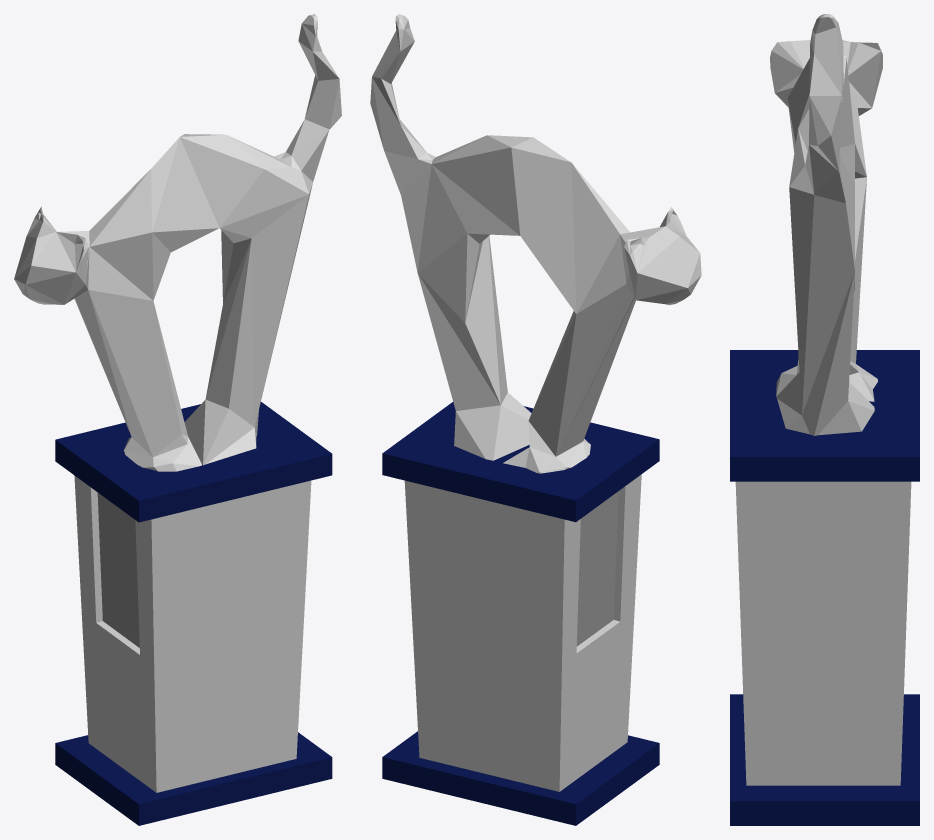
Rendered from silverCatblue.FBX.
The picture shows the model from 3 angles, left to right: view 1: azimuth 30°, elevation 25°; view 2: azimuth 150°, elevation 25°; view 3: azimuth 270°, elevation 25°; orthographic projection. The views are drawn at different scales.
Parts seen in each view (by area): view 1: cat006; view 2: cat006; view 3: cat006.
Boxes of the visible parts, x1,y1,x2,y2 form: cat006: [14, 14, 341, 825]; cat006: [370, 14, 701, 825]; cat006: [730, 14, 919, 825].
Size of the model in its own units: 10.44 by 22.51 by 4.69.
